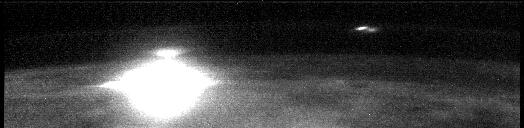positive: (149, 46, 189, 61)
